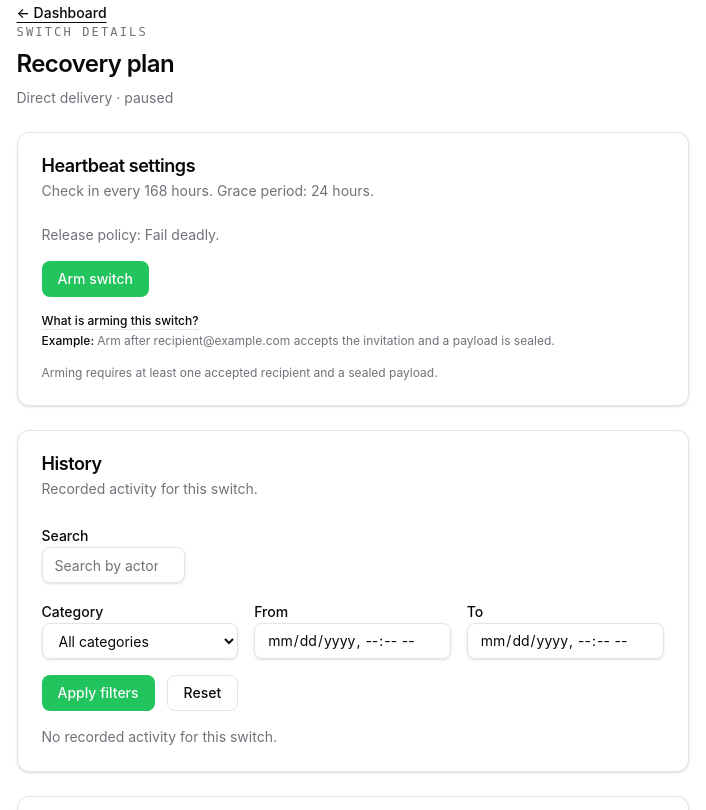
SwitchDetailPage › keeps fail_deadly arming on the existing confirmation contract
The width and height of the screenshot is (706, 810).
Click the button "Arm switch": (95, 279) [42,261,149,297]
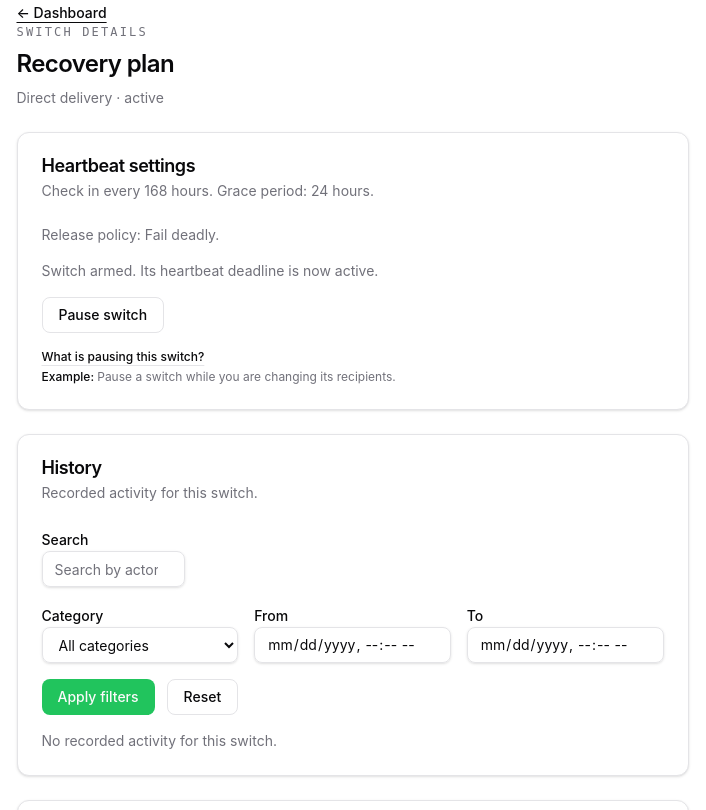
Expected: the text "Switch armed. Its heartbeat deadline is now active." is shown, [42,262,378,279]
